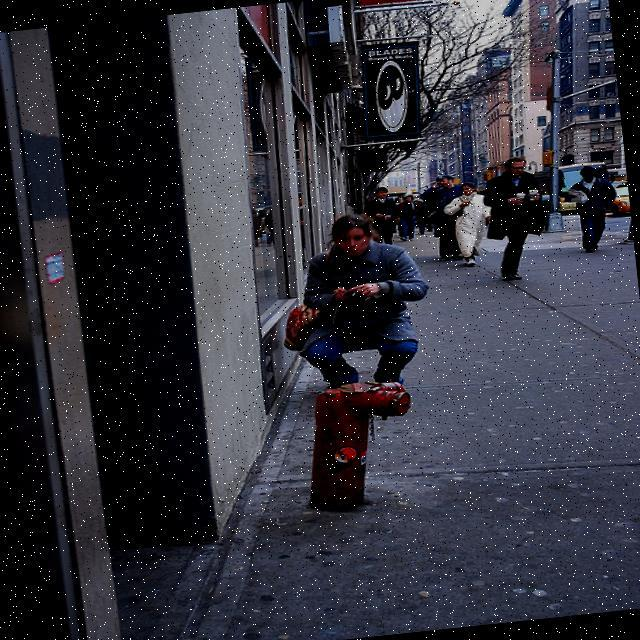fire_hydrant: (297, 380, 421, 509)
